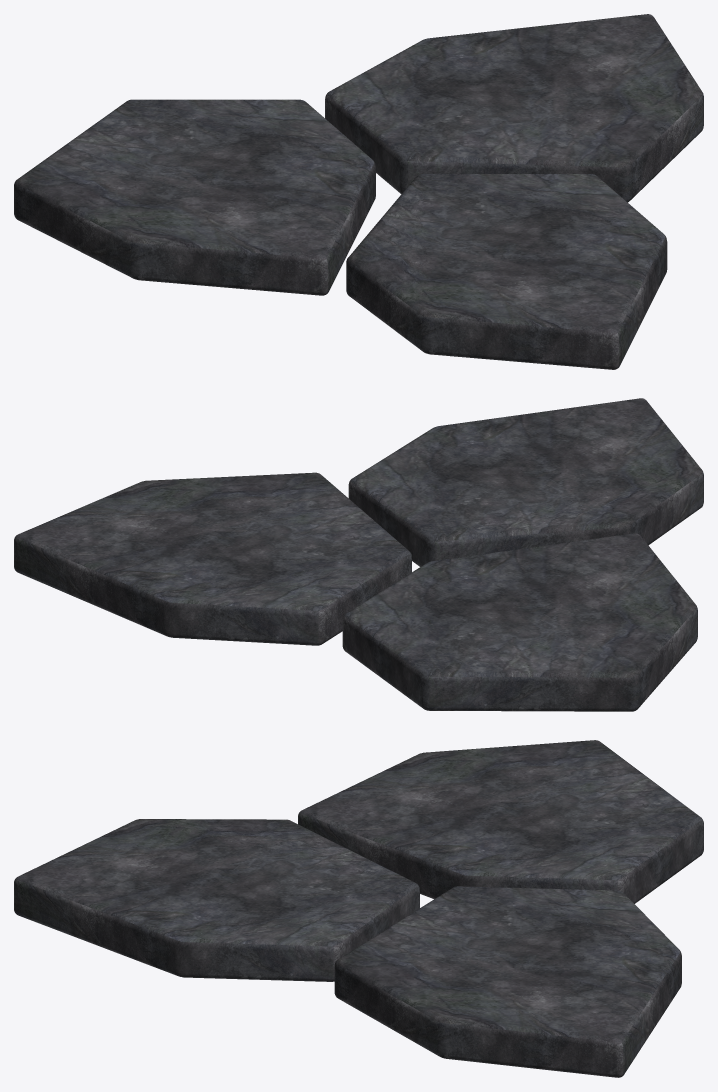
File: stone3.glb
The picture shows the model from 3 angles, top to bottom: view 1: azimuth 30°, elevation 25°; view 2: azimuth 150°, elevation 25°; view 3: azimuth 270°, elevation 25°; orthographic projection. The views are drawn at different scales.
Visible parts, largest first — view 1: Stone_Path.002; view 2: Stone_Path.002; view 3: Stone_Path.002.
Part boxes in pixels (left/top/right/bottom): Stone_Path.002: left=14, top=14, right=703, bottom=369; Stone_Path.002: left=14, top=398, right=703, bottom=711; Stone_Path.002: left=14, top=740, right=703, bottom=1077.
Size of the model in its own units: 1.22 by 0.0728 by 1.17.
1 material, 1 textured.
